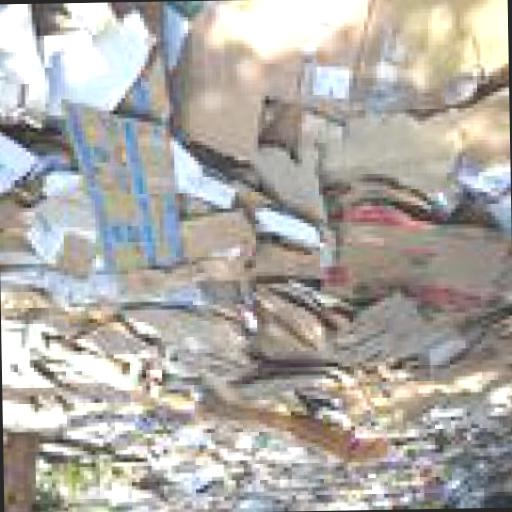cardboard: (0, 0, 512, 512), (174, 378, 388, 478), (352, 0, 506, 118), (58, 114, 168, 276), (239, 451, 512, 512), (319, 216, 509, 302), (168, 4, 267, 169), (318, 304, 510, 380), (256, 2, 370, 128), (0, 135, 89, 284), (39, 6, 153, 120), (322, 116, 448, 214), (346, 360, 511, 430), (1, 322, 115, 416), (232, 282, 346, 372), (424, 84, 506, 197), (33, 318, 155, 392), (121, 312, 254, 378), (383, 411, 512, 474), (139, 444, 249, 512), (59, 398, 196, 452), (109, 277, 241, 327), (1, 286, 106, 340), (246, 150, 316, 228), (159, 164, 248, 222), (196, 247, 316, 290), (0, 7, 41, 129), (206, 379, 343, 413), (166, 216, 256, 266), (286, 114, 344, 188), (112, 54, 170, 126), (112, 58, 170, 122), (244, 210, 328, 252), (3, 439, 39, 512), (122, 382, 187, 418), (128, 273, 200, 299), (266, 116, 286, 152)
